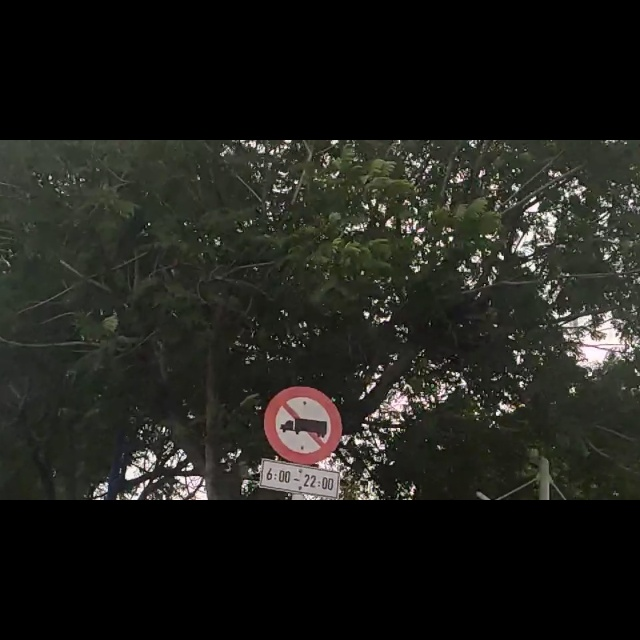bien_cam: (255, 440, 342, 625)
